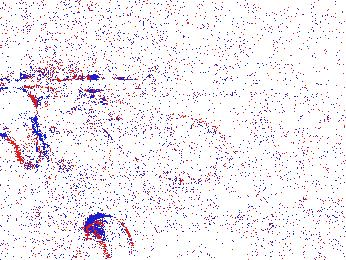flame jellyfish: (215, 204, 285, 260), (1, 84, 46, 170), (71, 213, 133, 260)
